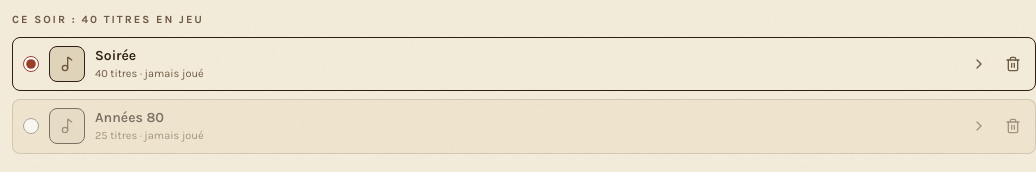
Test: MusicLibrary : une playlist par joueur › choisir une autre carte decoche la premiere et le dit au serveur
Click the radio button named "Années 80" at (31,126), box x1=23 y1=118 x2=39 y2=134
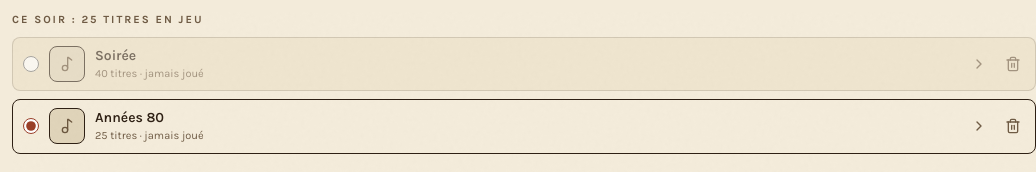
Result: the radio button named "Années 80" is checked at x1=23 y1=118 x2=39 y2=134
Result: the radio button named "Soirée" is not checked at x1=23 y1=56 x2=39 y2=72
Result: the text "Ce soir : 25 titres en jeu" is shown at x1=12 y1=13 x2=204 y2=26
